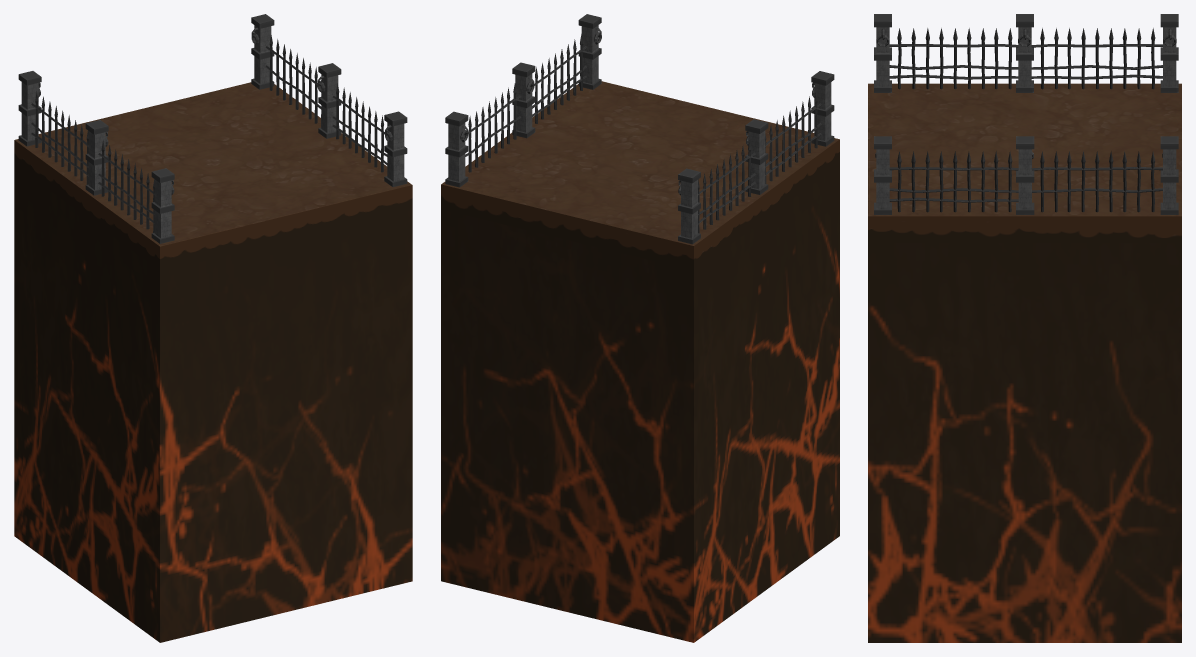
The model's file is Plataforma 3.fbx.
The picture shows the model from 3 angles, left to right: view 1: azimuth 30°, elevation 25°; view 2: azimuth 150°, elevation 25°; view 3: azimuth 270°, elevation 25°; orthographic projection. The views are drawn at different scales.
Parts seen in each view (by area): view 1: Plataforma 1.002, Cube.081, Cube.082, Cube.011, Cube.010, Cube.107, Cube.095; view 2: Plataforma 1.002, Cube.107, Cube.011, Cube.081, Cube.095, Cube.082, Cube.010; view 3: Plataforma 1.002, Cube.107, Cube.095, Cube.082, Cube.011, Cube.010, Cube.081.
Boxes of the visible parts, box(x1,y1,x2,y2) form: Plataforma 1.002: box(14, 82, 412, 642); Cube.081: box(151, 168, 174, 243); Cube.082: box(384, 111, 407, 186); Cube.011: box(18, 71, 41, 146); Cube.010: box(85, 120, 108, 195); Cube.107: box(251, 14, 274, 89); Cube.095: box(318, 63, 341, 138); Plataforma 1.002: box(441, 81, 839, 642); Cube.107: box(445, 111, 468, 187); Cube.011: box(678, 168, 700, 244); Cube.081: box(811, 71, 834, 146); Cube.095: box(512, 62, 535, 138); Cube.082: box(578, 14, 601, 89); Cube.010: box(745, 119, 768, 194); Plataforma 1.002: box(868, 83, 1181, 642); Cube.107: box(1160, 136, 1178, 214); Cube.095: box(1016, 136, 1034, 214); Cube.082: box(874, 136, 891, 214); Cube.011: box(1160, 14, 1178, 92); Cube.010: box(1016, 14, 1033, 92); Cube.081: box(874, 14, 891, 92).
Size of the model in its own units: 1000 by 1750 by 1000.
